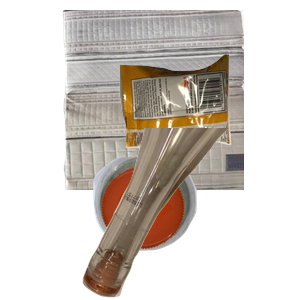glass: (80, 128, 300, 300)
paper: (60, 10, 300, 190)
plastic: (91, 152, 281, 300)
trash: (117, 52, 300, 193)
